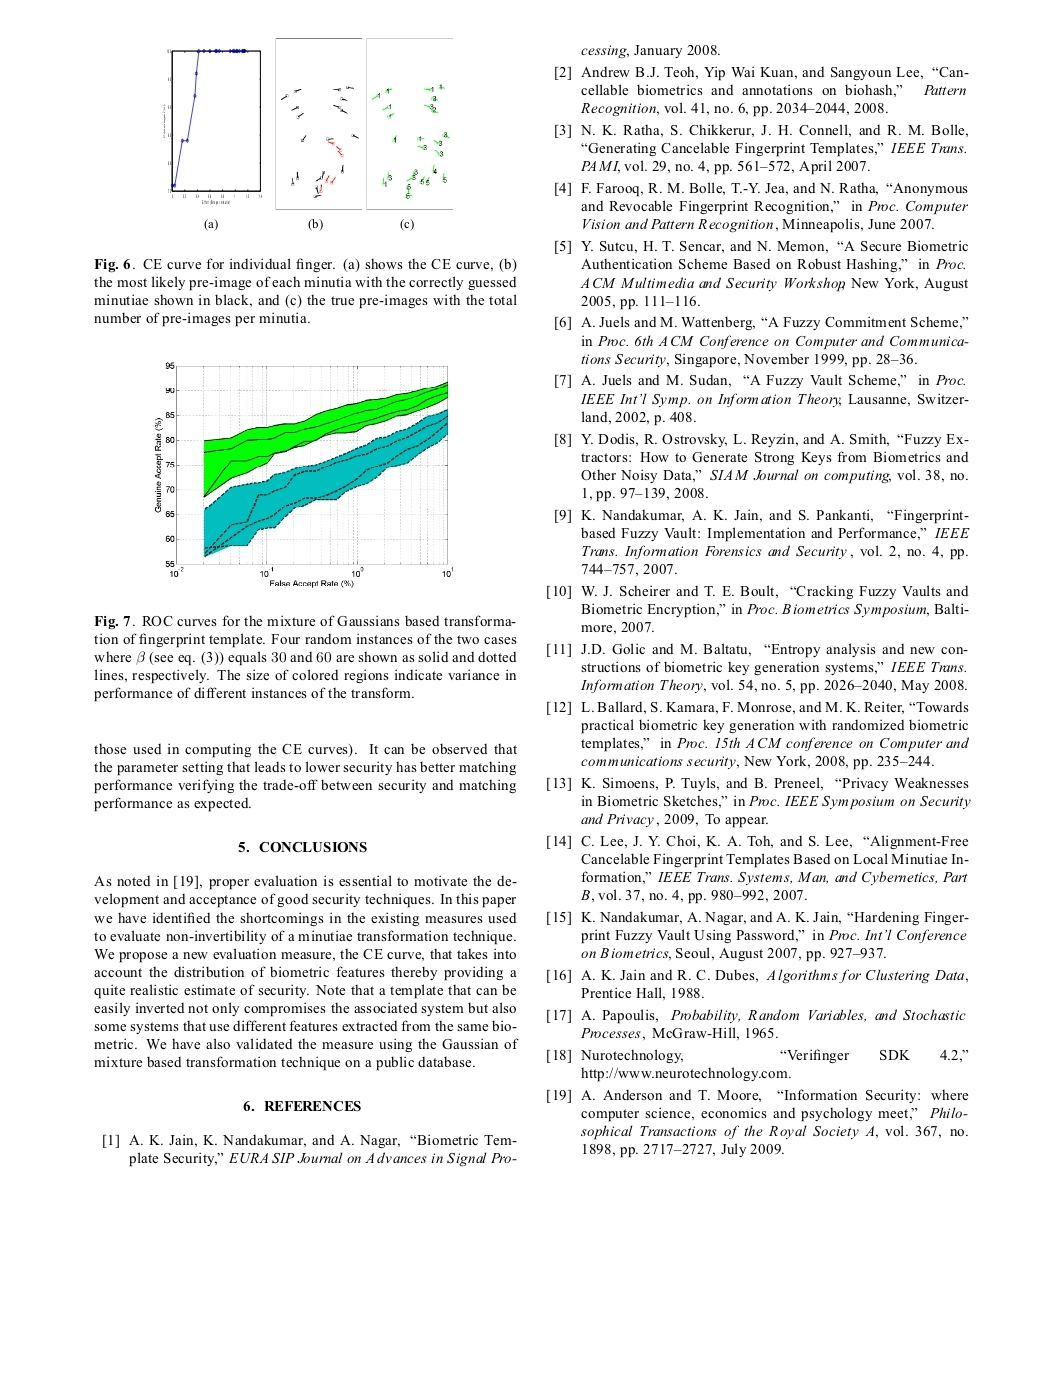figure: (155, 361, 452, 577), (163, 49, 261, 204), (366, 38, 452, 210), (275, 38, 361, 210)
